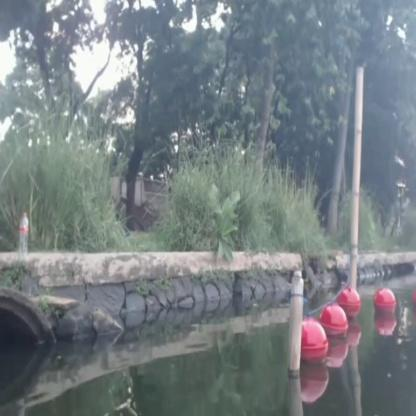red_buoy: (322, 304, 347, 344), (304, 322, 326, 362), (374, 285, 394, 323), (347, 288, 357, 323)
